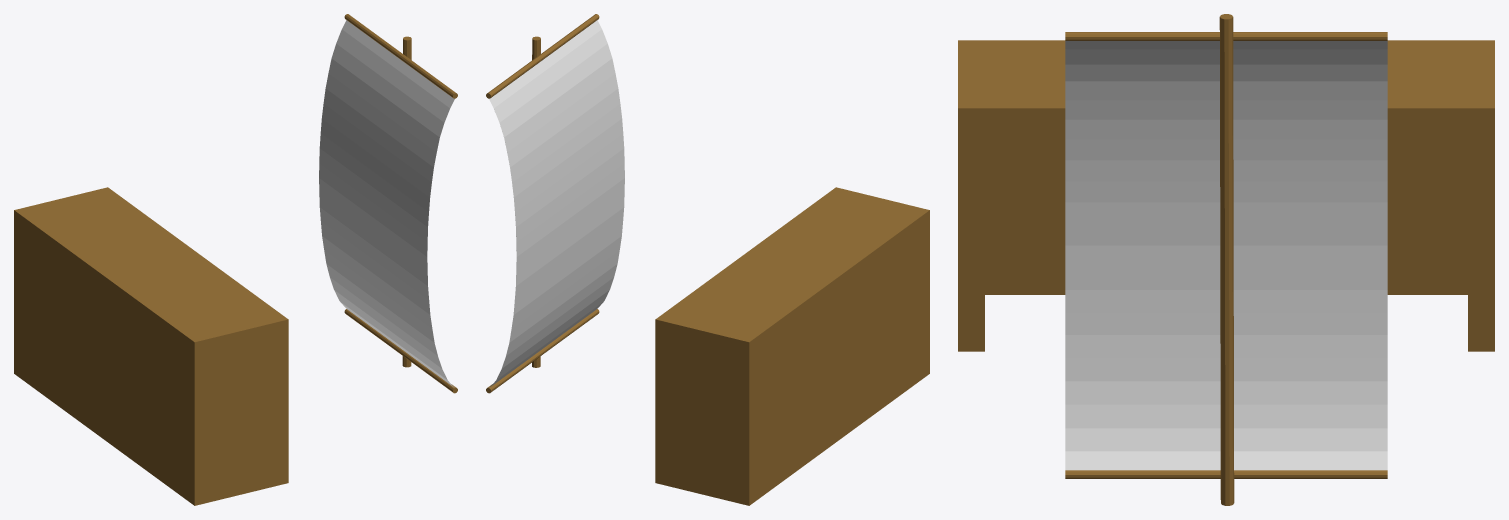
File: Stant.fbx
The picture shows the model from 3 angles, left to right: view 1: azimuth 30°, elevation 25°; view 2: azimuth 150°, elevation 25°; view 3: azimuth 270°, elevation 25°; orthographic projection. The views are drawn at different scales.
Visible parts, largest first — view 1: table, flag, flag2; view 2: table, flag, flag2; view 3: flag, table, flag2.
Part boxes in pixels (x1,y1,x2,y2): table: [14, 187, 288, 505]; flag: [319, 20, 454, 387]; flag2: [344, 14, 457, 393]; table: [655, 187, 929, 505]; flag: [489, 20, 624, 387]; flag2: [486, 14, 599, 393]; flag: [1065, 41, 1387, 470]; table: [958, 40, 1494, 351]; flag2: [1065, 14, 1387, 505].
Bounding box in the file's own units: 1961 × 2001 × 2000.
